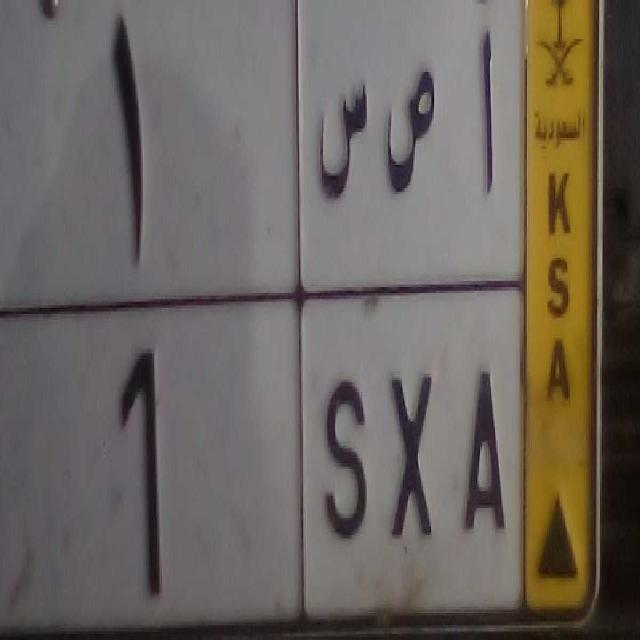license_plate: (0, 293, 522, 640)
